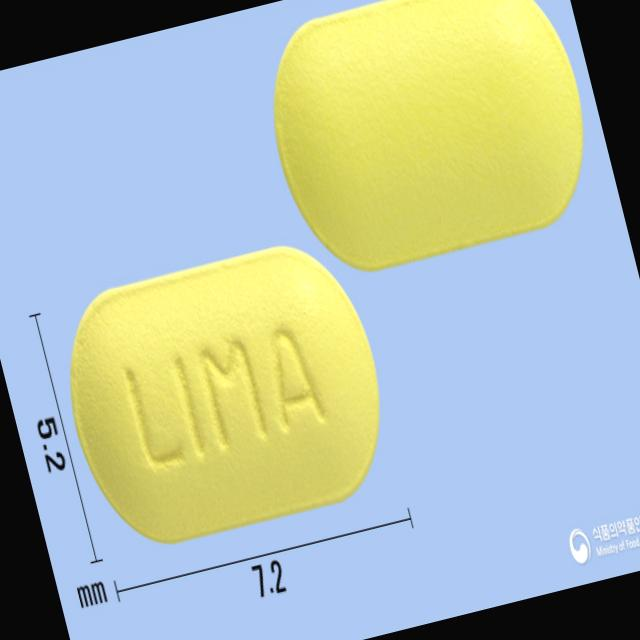Liamclo -250mg: (46, 228, 408, 560)
